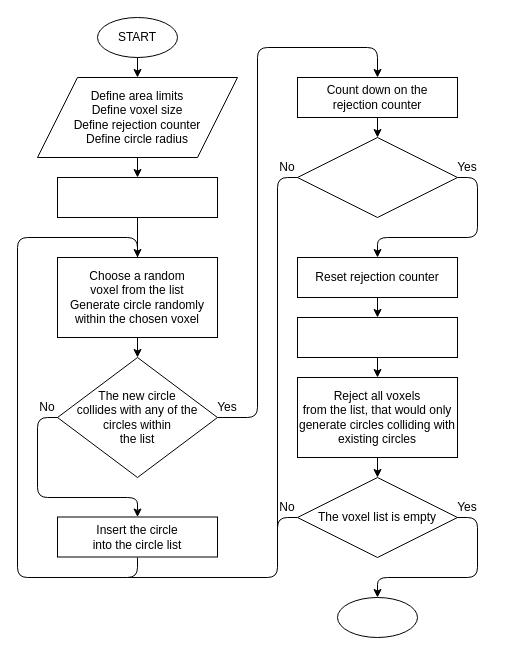
This 505x655 diagram has some shape labels left out. The box of each missing label's shape, as (x1, y1, x2, y2) in pixels:
Create voxel list Create circle list: (56, 176, 218, 218)
END: (336, 596, 418, 638)
Rejection counter is depleted: (296, 136, 458, 218)
Split all voxels within the list into 4 voxels: (296, 316, 458, 358)
